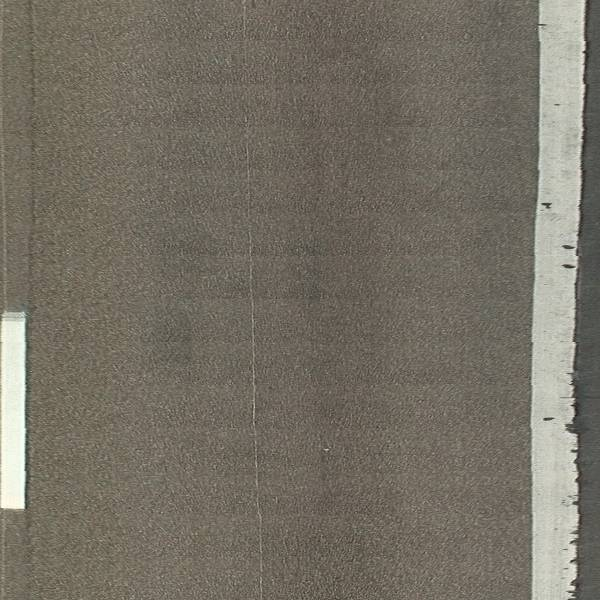road_damage: (562, 372, 589, 589)
